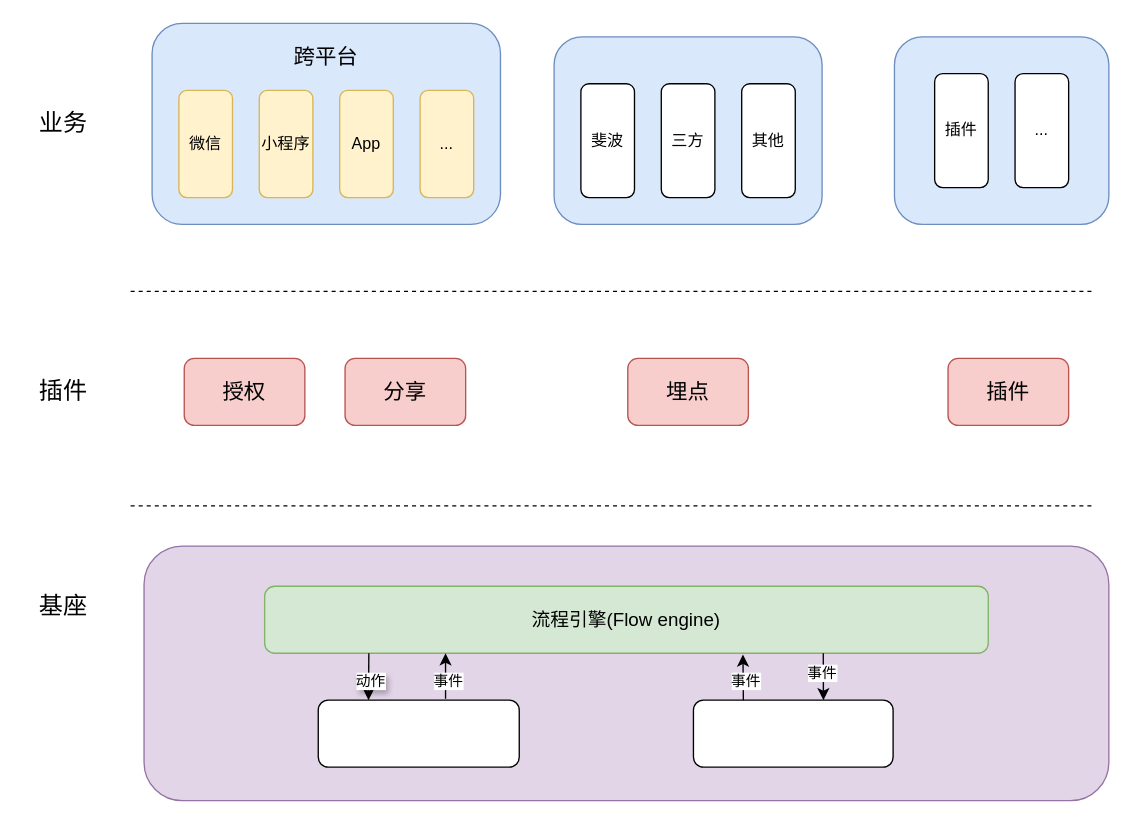
Some shapes in this 1132 by 824 pixel diagram are drawn without their labels. Each missing label, with the centre of its shape:
"UI 渲染" belongs at (418,733).
"业务逻辑" belongs at (792,733).
